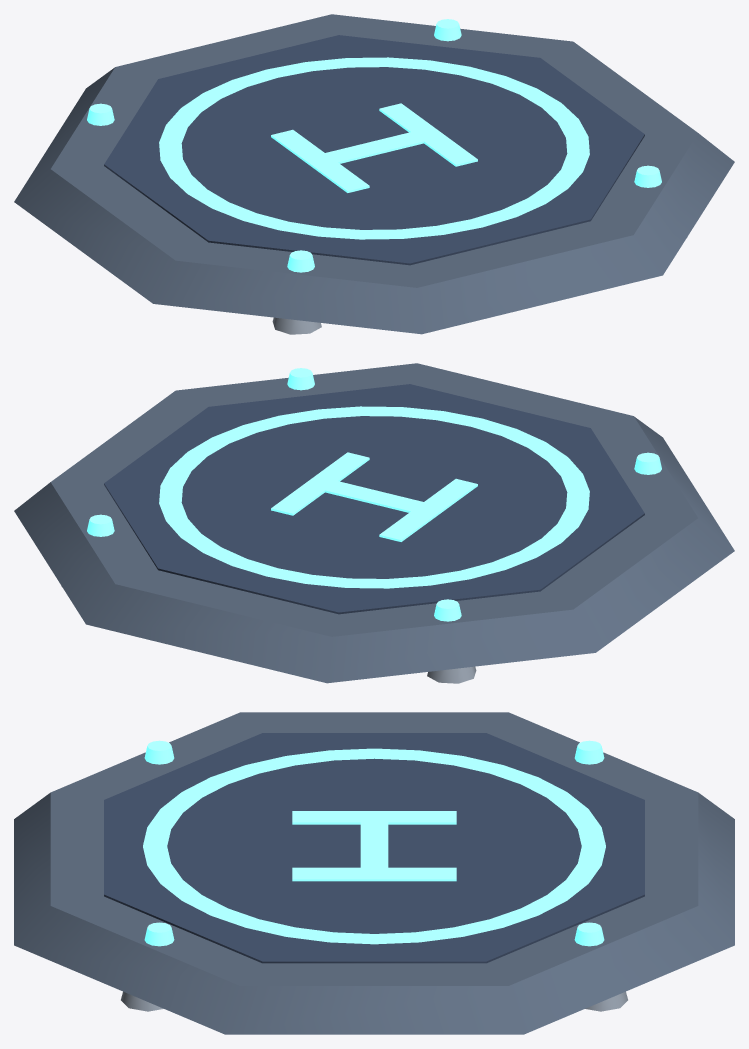
Rendered from landing_platform.glb.
3 renders of one model, top to bottom at view 1: azimuth 30°, elevation 25°; view 2: azimuth 150°, elevation 25°; view 3: azimuth 270°, elevation 25°, orthographic. The views are drawn at different scales.
Parts seen in each view (by area): view 1: Landing_Platform; view 2: Landing_Platform; view 3: Landing_Platform.
Part boxes in pixels (<box>): Landing_Platform: <box>14,14,734,334</box>; Landing_Platform: <box>14,363,734,683</box>; Landing_Platform: <box>14,712,734,1034</box>.
Bounding box in the file's own units: 2.37 × 0.245 × 2.37.
